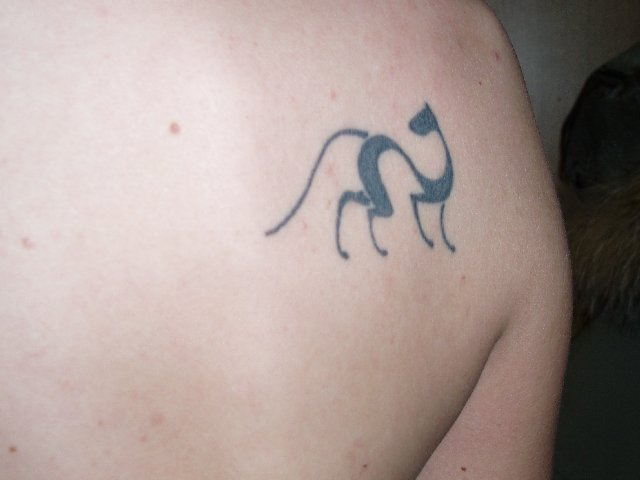tatu8_kot: (257, 95, 477, 264)
